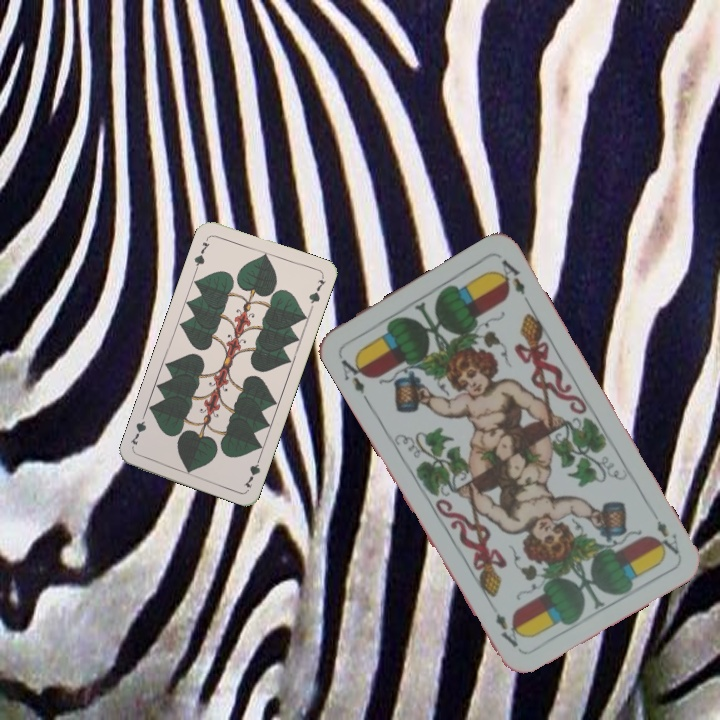EA: (337, 352, 371, 397), (649, 516, 682, 559)
G7: (240, 452, 264, 491), (190, 233, 212, 273)
